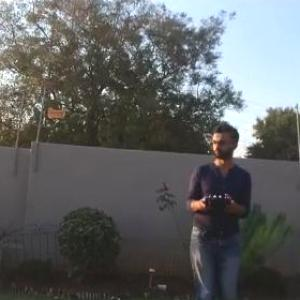follow: (182, 119, 255, 299)
